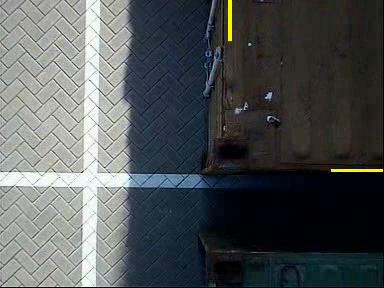groundmarker_2: (119, 179, 203, 235)
